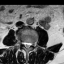CCS_normal: (26, 39, 28, 51)
LFS_normal: (31, 38, 34, 48)
LLS_normal: (28, 39, 31, 49)
RFS_normal: (21, 38, 23, 47)
RLS_normal: (23, 39, 26, 48)
